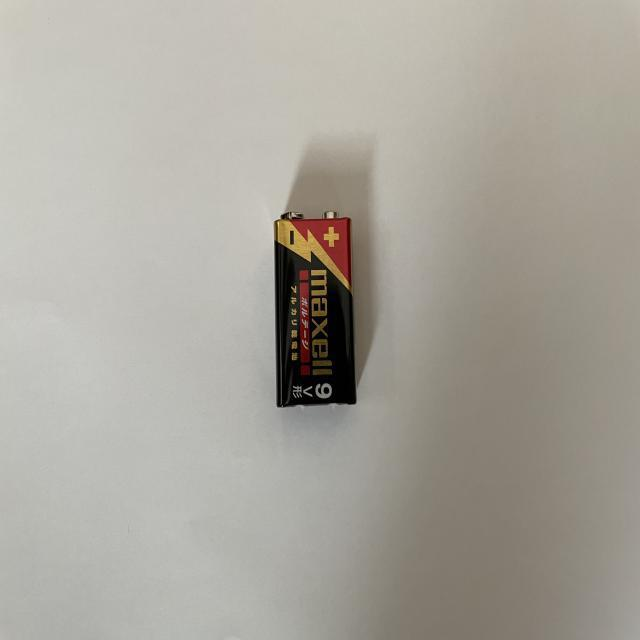9V: (272, 209, 358, 409)
